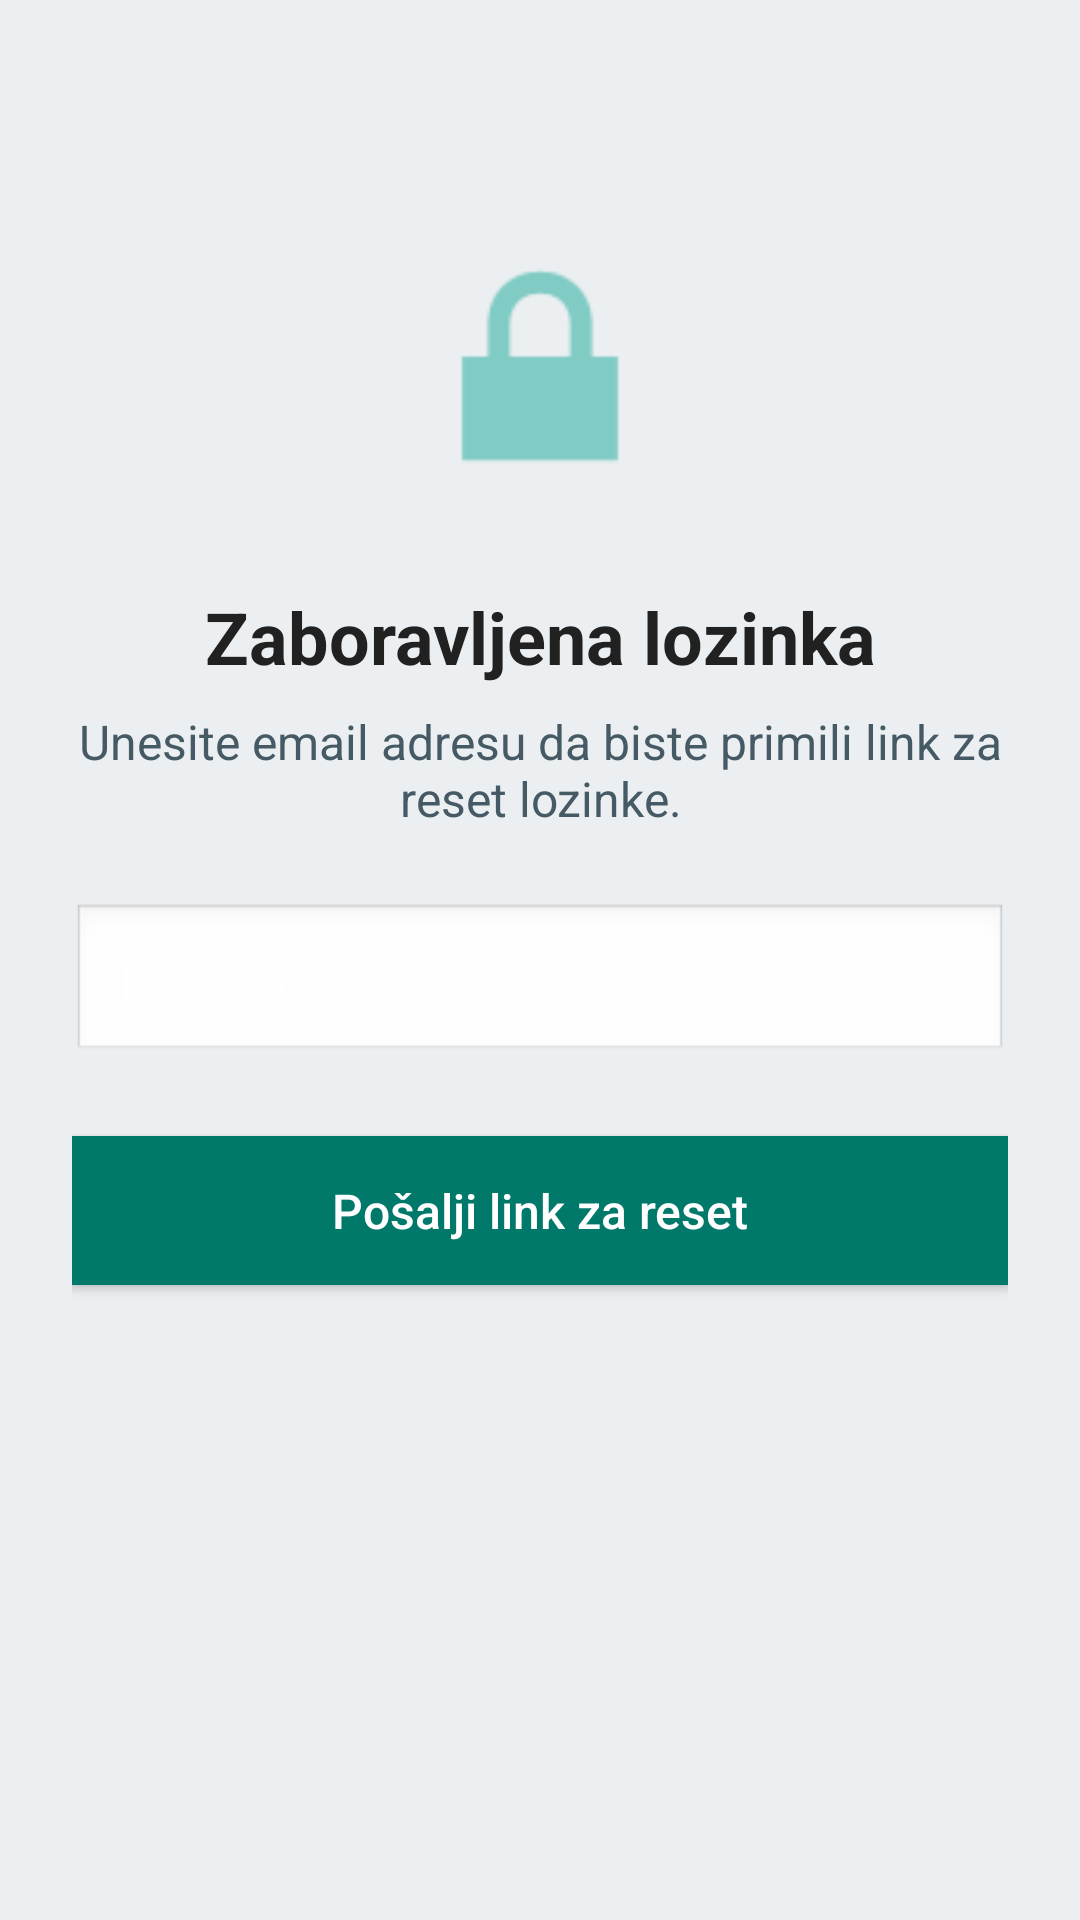

Point at icon controls on the screen. Image size 1080w x 1920h, points as point (x, y).
lock: point (540, 366)
